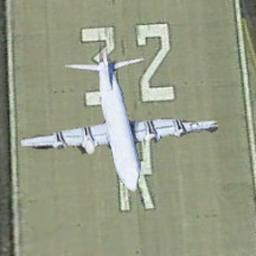Airplane: (20, 46, 219, 211)
